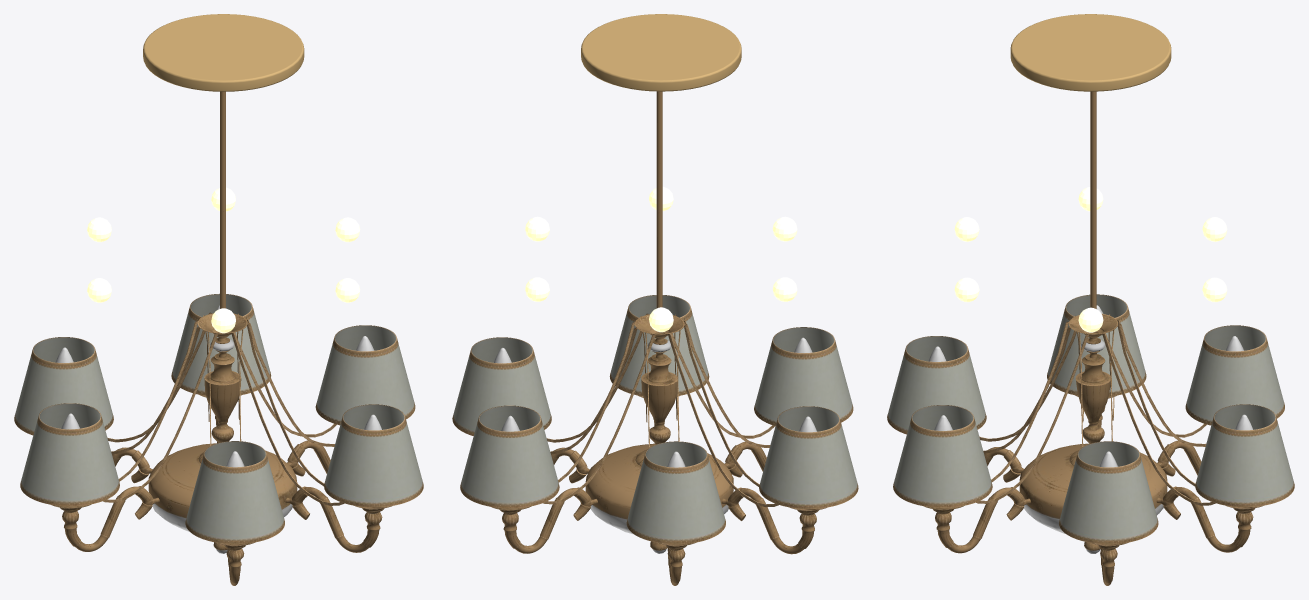
File: hp_room_cc0_chandelier_02_ceiling.glb
The picture shows the model from 3 angles, left to right: view 1: azimuth 30°, elevation 25°; view 2: azimuth 150°, elevation 25°; view 3: azimuth 270°, elevation 25°; orthographic projection.
Visible parts, largest first — view 1: Chandelier_02, hp_chandelier_ceiling_brass_cap; view 2: Chandelier_02, hp_chandelier_ceiling_brass_cap; view 3: Chandelier_02, hp_chandelier_ceiling_brass_cap.
Part boxes in pixels (x1,y1,x2,y2): Chandelier_02: (14,91,423,585); hp_chandelier_ceiling_brass_cap: (143,14,304,91); Chandelier_02: (452,91,858,585); hp_chandelier_ceiling_brass_cap: (581,14,741,91); Chandelier_02: (887,91,1294,585); hp_chandelier_ceiling_brass_cap: (1010,14,1171,91).
Size of the model in its own units: 1.25 by 1.56 by 1.14.
4 materials, 1 textured.
